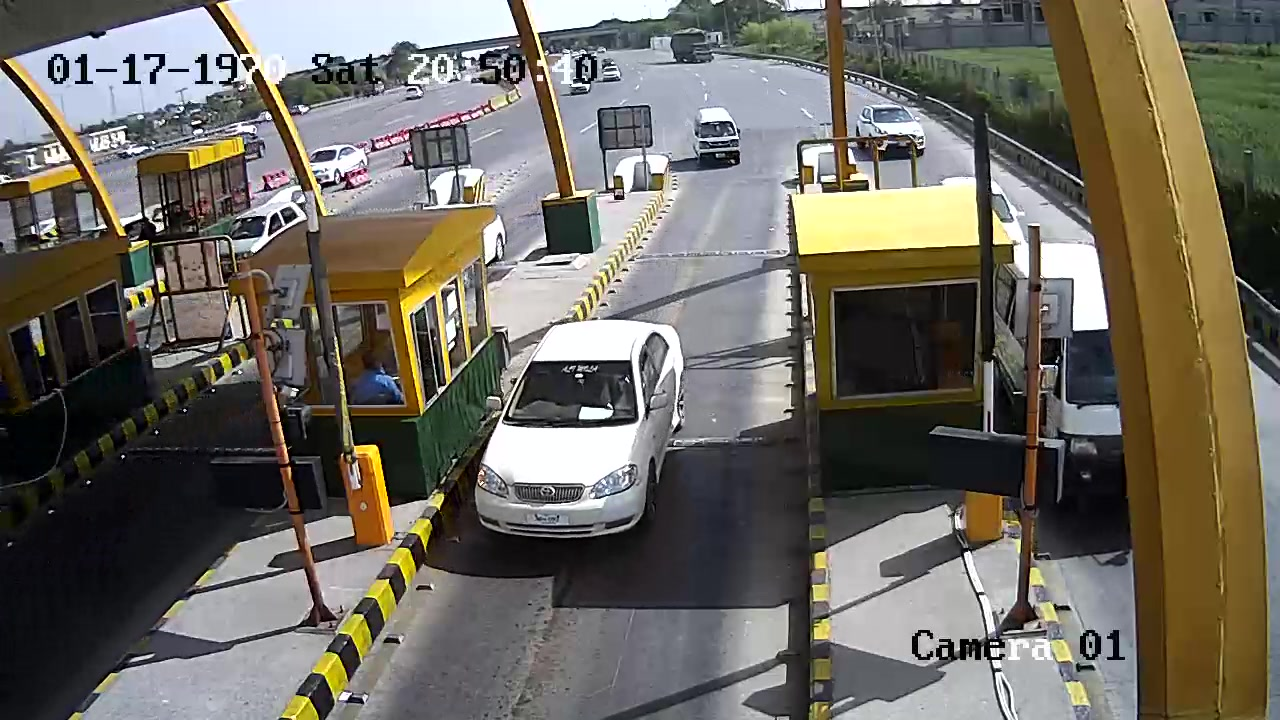F1: (472, 307, 701, 552)
